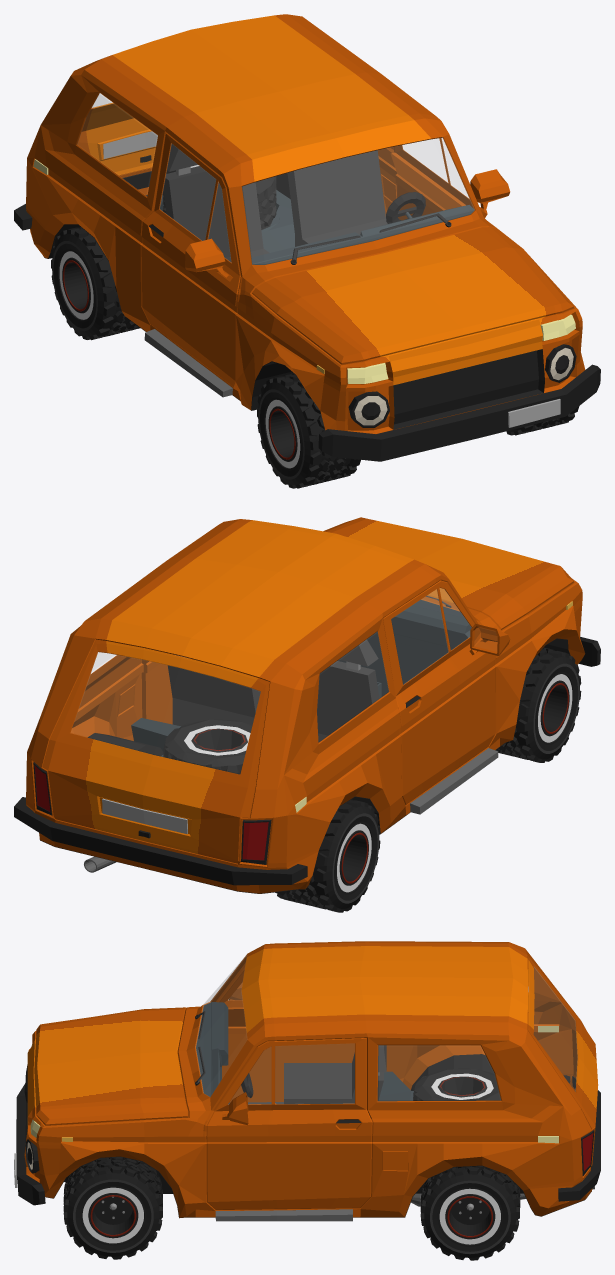
File: car.glb
The picture shows the model from 3 angles, top to bottom: view 1: azimuth 30°, elevation 25°; view 2: azimuth 150°, elevation 25°; view 3: azimuth 270°, elevation 25°; orthographic projection. The views are drawn at different scales.
Parts seen in each view (by area): view 1: Body, hood, WindowFront, Seats, Door, Bumper.001, Wheel.002, Wheel.003, WondowRight, WindowDoor, Trunk, Door.001 (+12 smaller); view 2: Body, Trunk, WindowBack, Door, hood, Seats, Wheel.003, Wheel.002, Bumper.002, Panel, WondowRight, WindowDoor (+8 smaller); view 3: Body, Door.001, hood, Wheel.002, Wheel.003, WondowRight, WindowDoor.001, Door, WindowFront, Seats, Trunk, WindowBack (+9 smaller).
Boxes of the visible parts, bbox=[...] form: Body: bbox=[26, 14, 585, 433]; hood: bbox=[252, 227, 573, 364]; WindowFront: bbox=[242, 138, 474, 264]; Seats: bbox=[163, 143, 387, 262]; Door: bbox=[141, 132, 240, 386]; Bumper.001: bbox=[318, 364, 600, 461]; Wheel.002: bbox=[257, 373, 579, 488]; Wheel.003: bbox=[51, 226, 140, 340]; WondowRight: bbox=[77, 94, 157, 195]; WindowDoor: bbox=[159, 144, 230, 261]; Trunk: bbox=[77, 102, 155, 175]; Door.001: bbox=[390, 138, 473, 220]; Body: bbox=[26, 519, 585, 893]; Trunk: bbox=[42, 639, 269, 863]; WindowBack: bbox=[71, 652, 259, 773]; Door: bbox=[383, 580, 495, 804]; hood: bbox=[323, 517, 573, 629]; Seats: bbox=[167, 639, 379, 742]; Wheel.003: bbox=[275, 799, 380, 912]; Wheel.002: bbox=[495, 647, 581, 762]; Bumper.002: bbox=[14, 797, 307, 885]; Panel: bbox=[337, 599, 471, 696]; WondowRight: bbox=[317, 632, 388, 741]; WindowDoor: bbox=[392, 588, 471, 684]; Body: bbox=[24, 941, 595, 1217]; Door.001: bbox=[206, 1038, 372, 1209]; hood: bbox=[34, 1007, 188, 1125]; Wheel.002: bbox=[63, 1157, 162, 1259]; Wheel.003: bbox=[420, 1166, 520, 1260]; WondowRight: bbox=[378, 1046, 500, 1100]; WindowDoor.001: bbox=[230, 1044, 354, 1103]; Door: bbox=[219, 969, 354, 1102]; WindowFront: bbox=[195, 955, 246, 1095]; Seats: bbox=[284, 1045, 386, 1104]; Trunk: bbox=[527, 956, 598, 1163]; WindowBack: bbox=[534, 967, 577, 1091].
Bounding box in the file's own units: 7.44 × 5.83 × 13.73.
4 materials, 1 textured.
